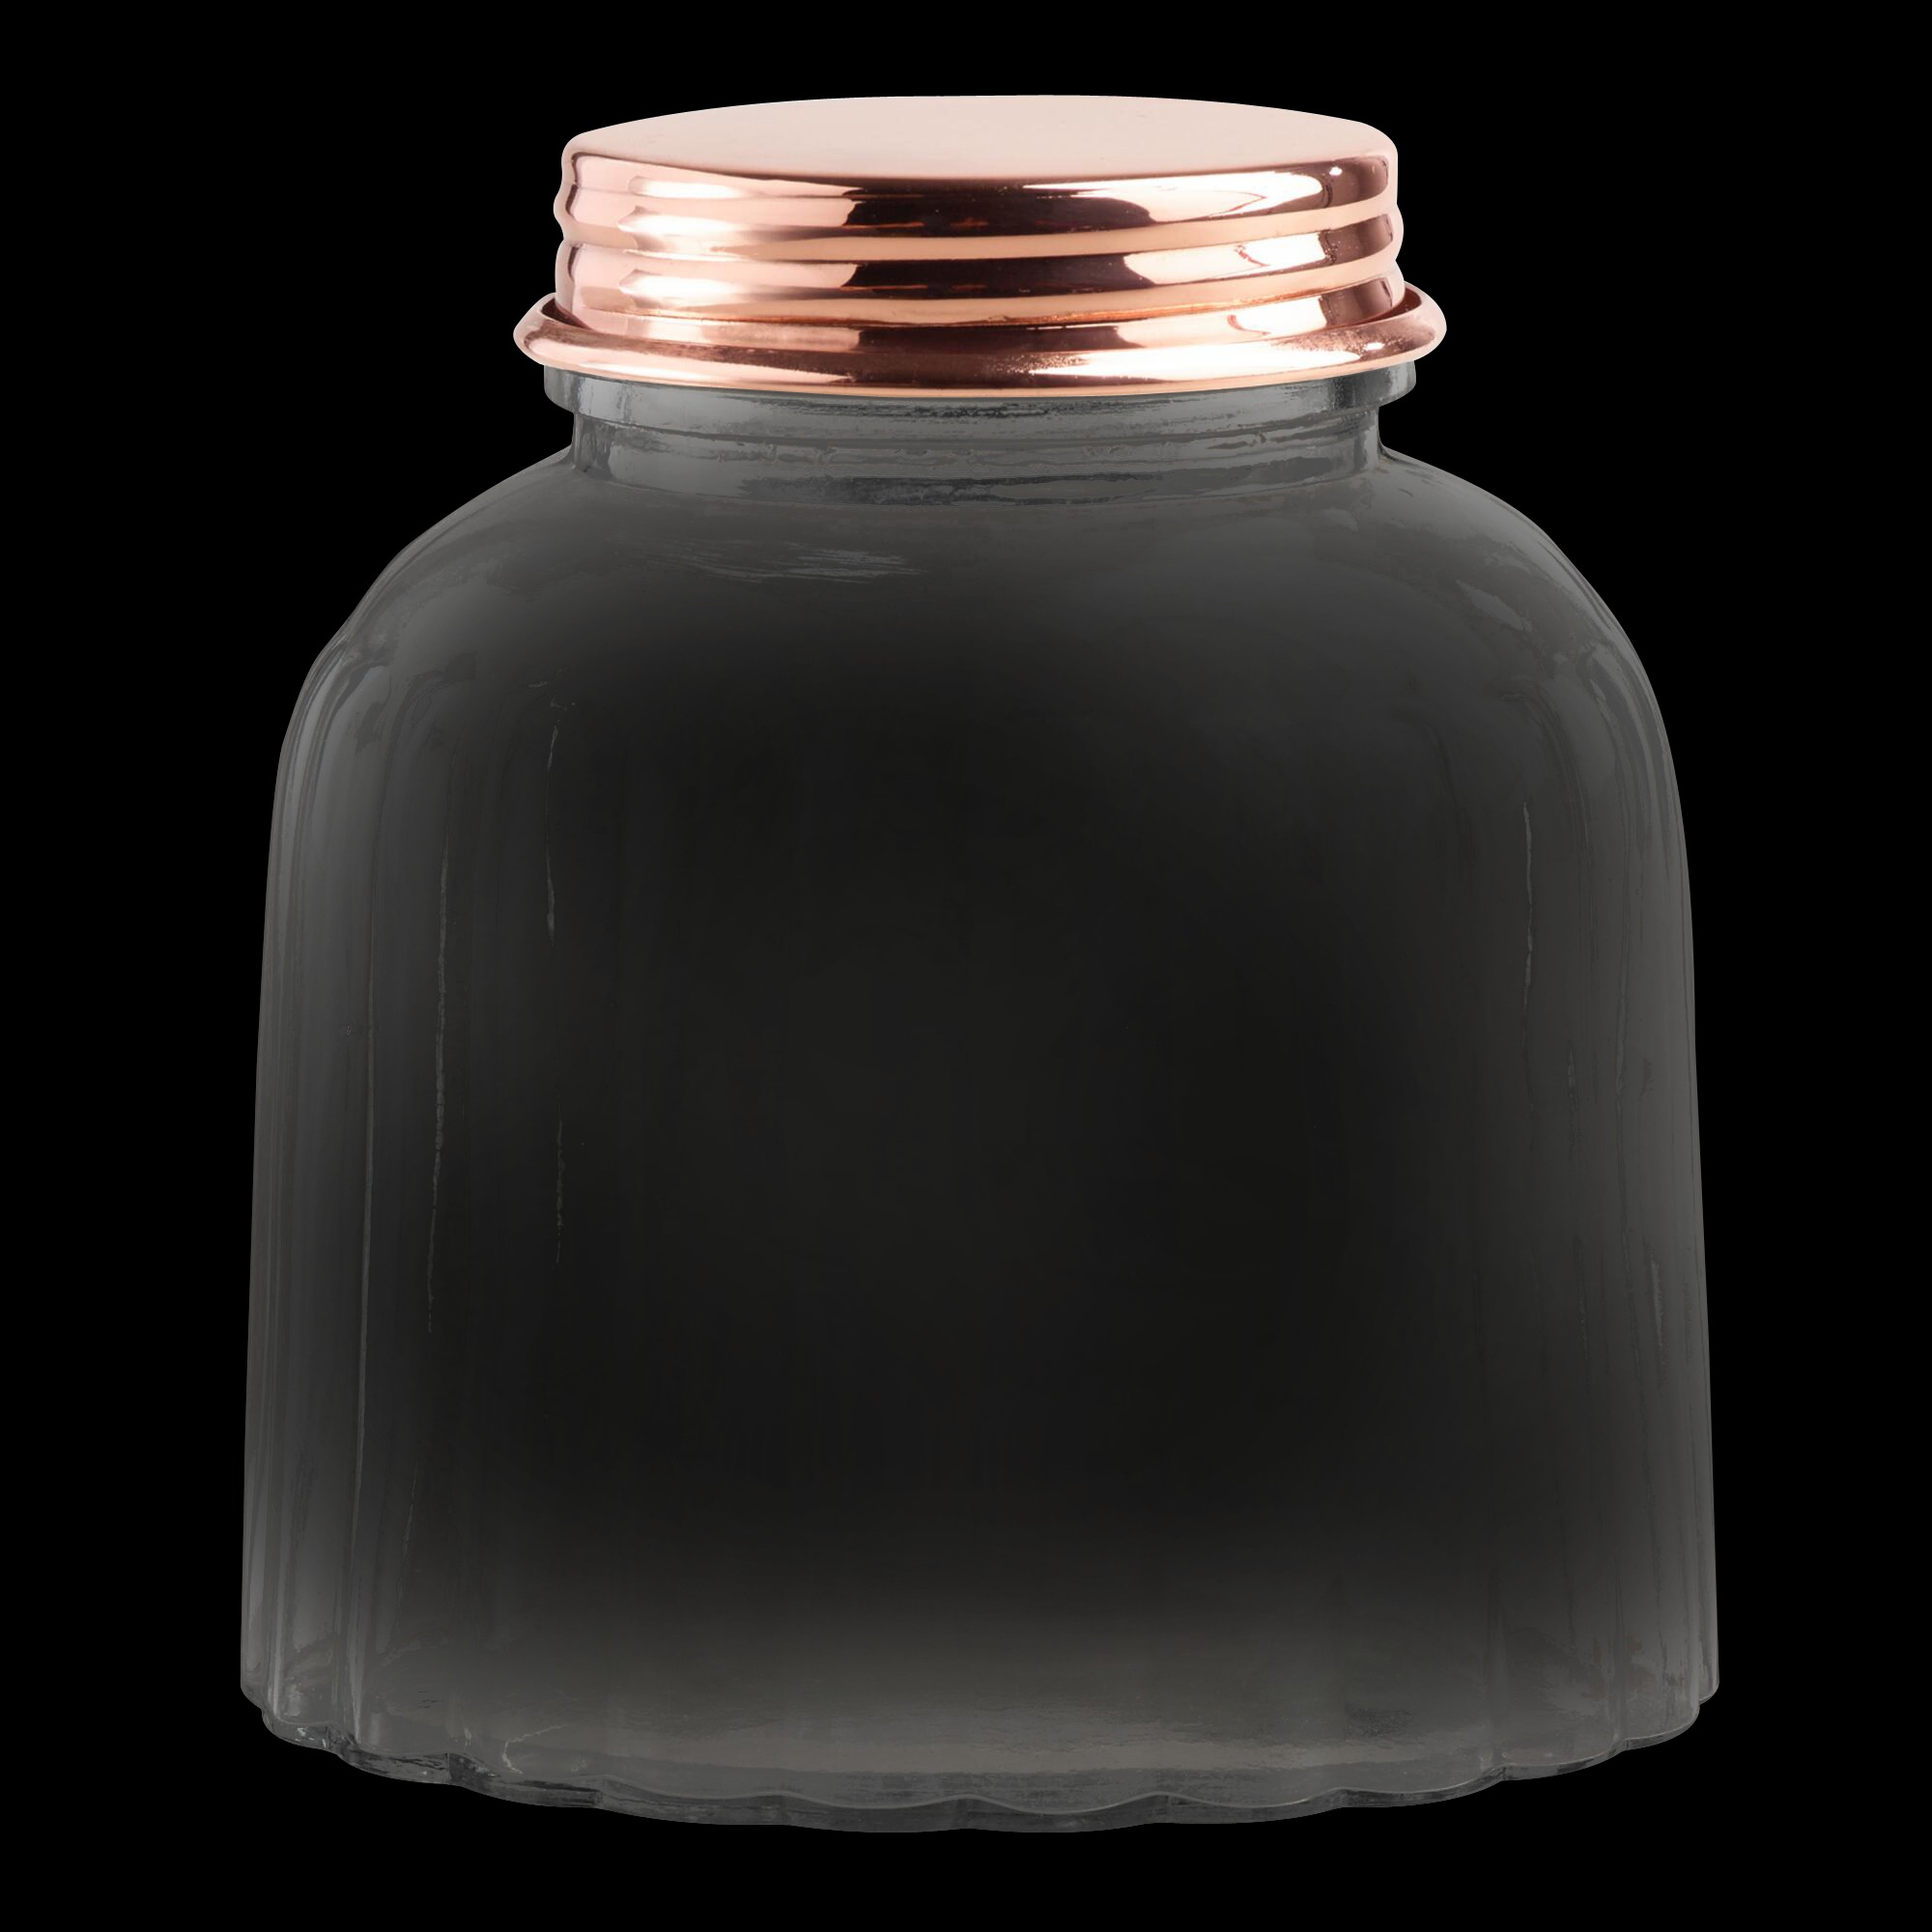container: (200, 51, 1760, 1844)
